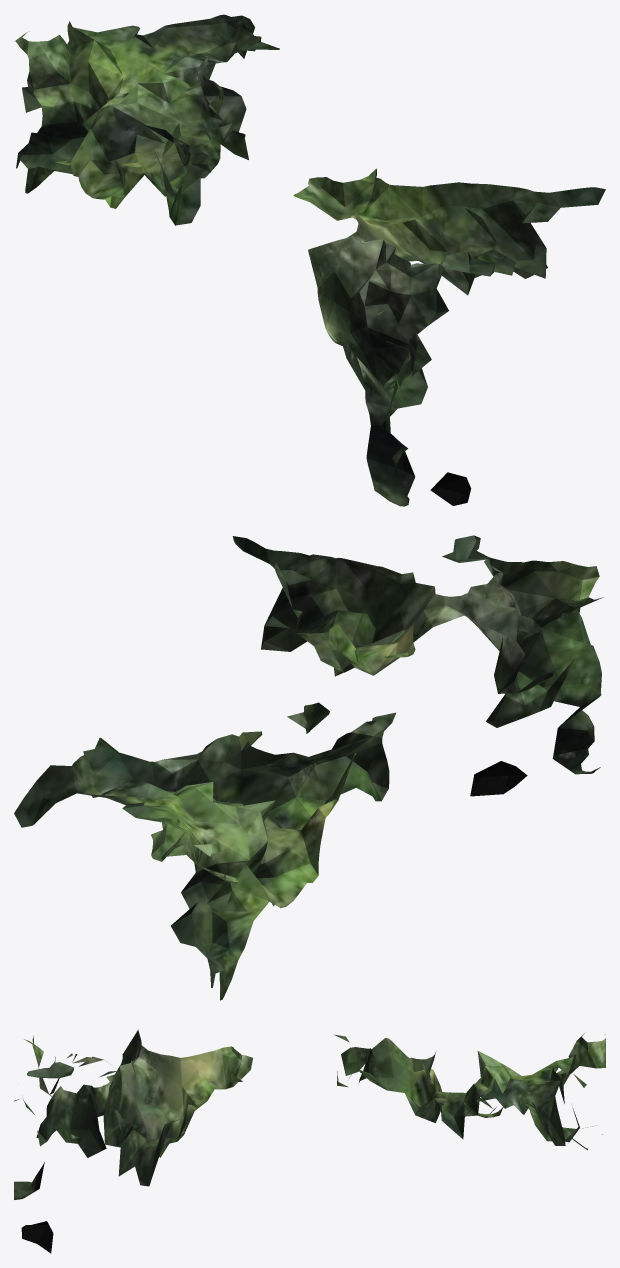
3 views of the same model, one above another, from view 1: azimuth 30°, elevation 25°; view 2: azimuth 150°, elevation 25°; view 3: azimuth 270°, elevation 25° (orthographic). The views are drawn at different scales.
Bounding box in the file's own units: 23.13 × 17.91 × 52.22.
Materials: 1 (1 with a texture image).
